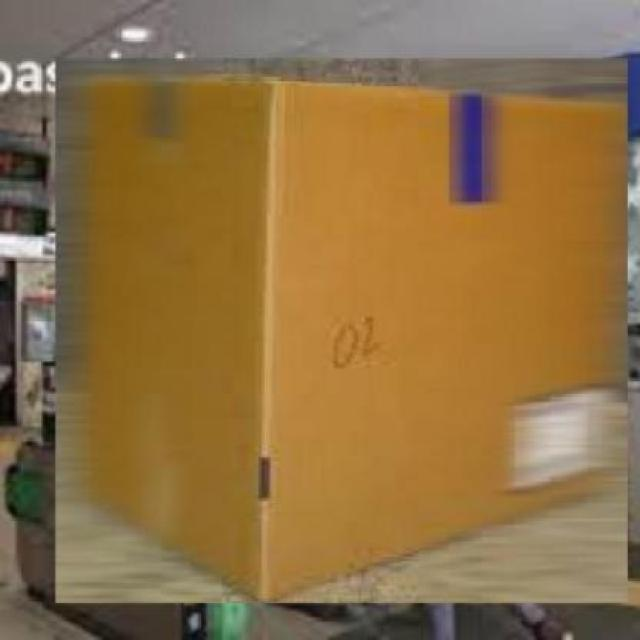box: (47, 51, 638, 612)
